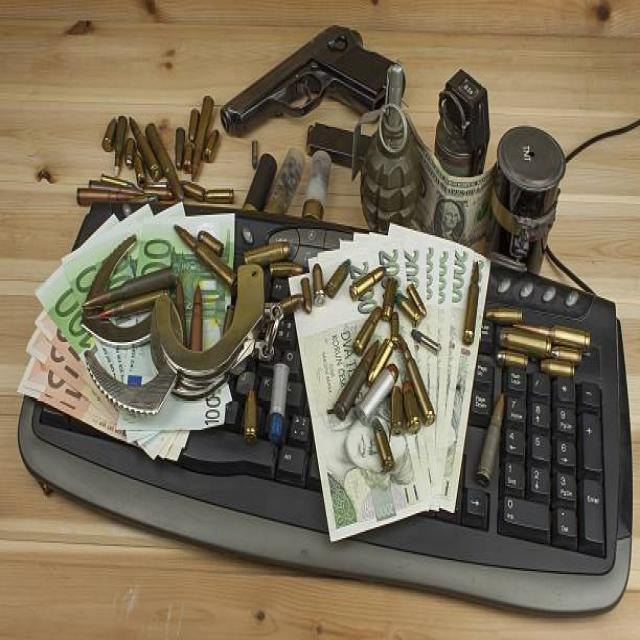grenade: (348, 65, 422, 240)
